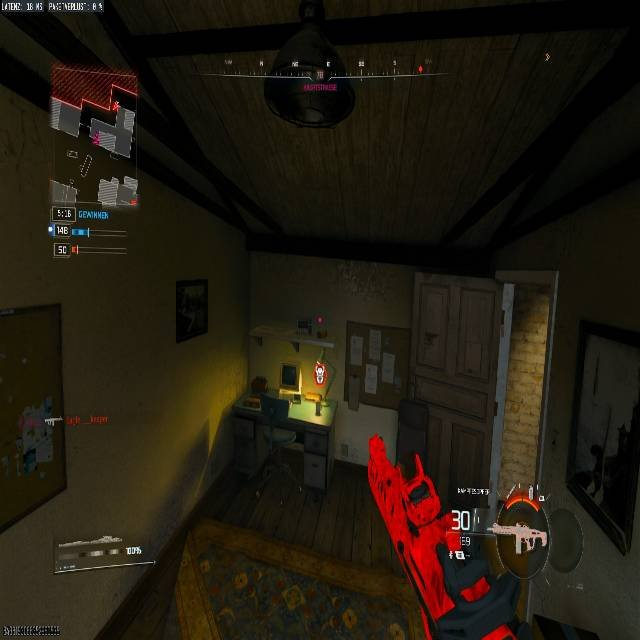head: (491, 500, 550, 572)
player: (315, 363, 326, 384)
